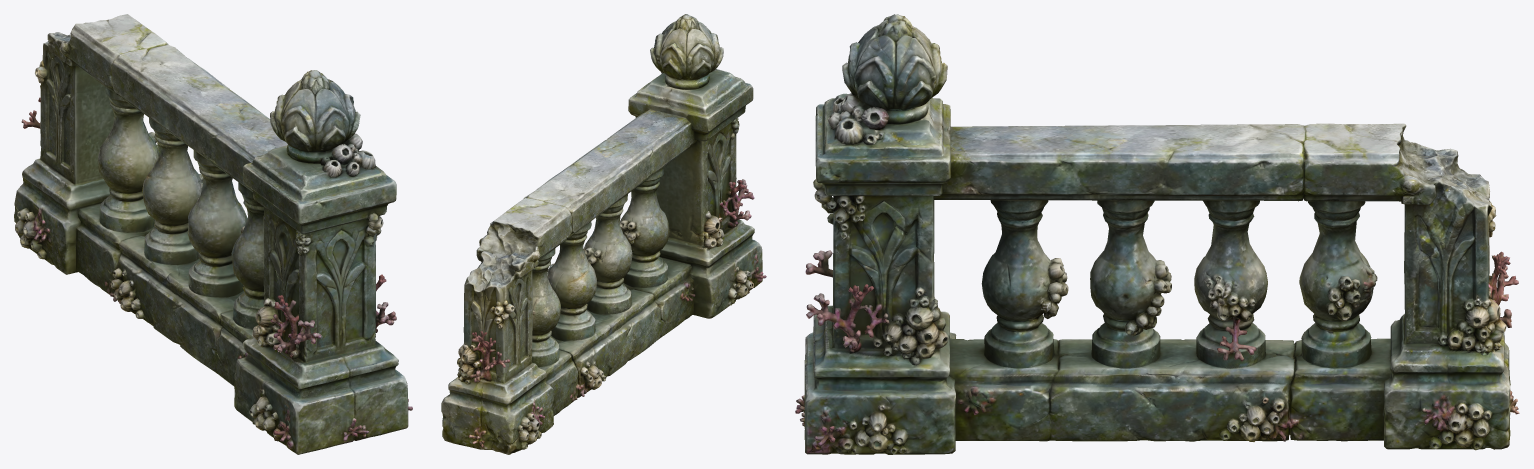
File: T19_balustrade.glb
3 views of the same model, side by side, from view 1: azimuth 30°, elevation 25°; view 2: azimuth 150°, elevation 25°; view 3: azimuth 270°, elevation 25° (orthographic). The views are drawn at different scales.
Visible parts, largest first — view 1: tripo_node_1f2cc195-8135-4710-a6cc-87a84150659c; view 2: tripo_node_1f2cc195-8135-4710-a6cc-87a84150659c; view 3: tripo_node_1f2cc195-8135-4710-a6cc-87a84150659c.
Part boxes in pixels (bbox=[...]): tripo_node_1f2cc195-8135-4710-a6cc-87a84150659c: bbox=[14, 14, 412, 454]; tripo_node_1f2cc195-8135-4710-a6cc-87a84150659c: bbox=[441, 14, 766, 454]; tripo_node_1f2cc195-8135-4710-a6cc-87a84150659c: bbox=[795, 14, 1519, 454].
Bounding box in the file's own units: 0.2501 × 0.613 × 0.9792.
Materials: 1 (1 with a texture image).
